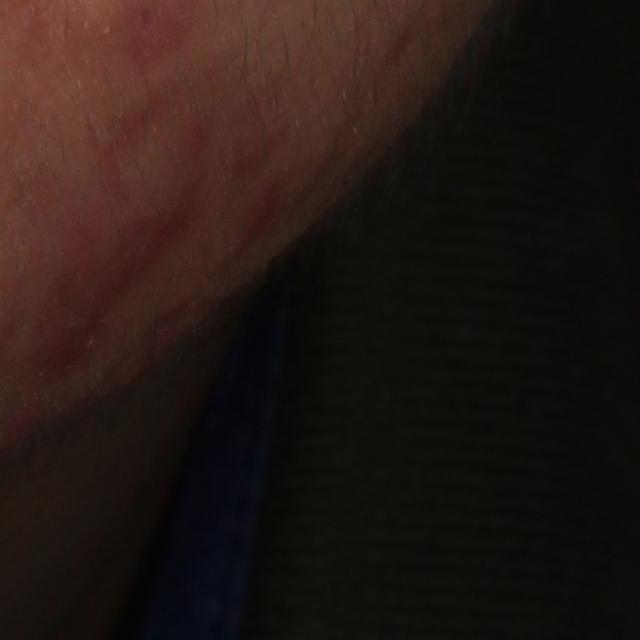nodule: (16, 159, 206, 391)
